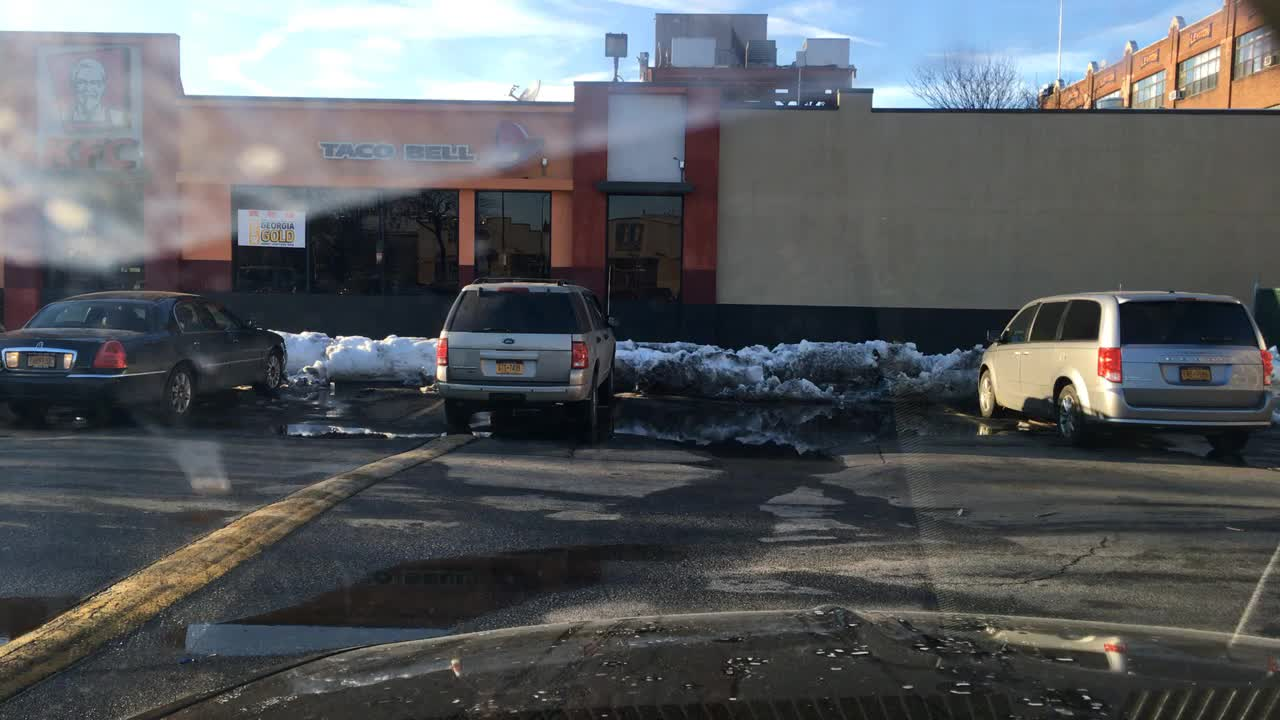car: (975, 289, 1275, 454), (1, 289, 291, 421), (437, 280, 617, 436)
traffic sign: (115, 260, 142, 275)
